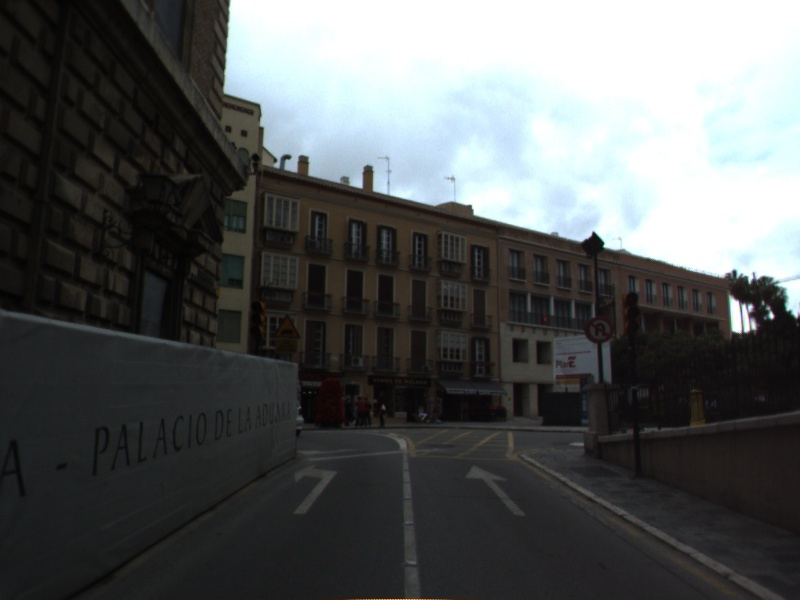LEFT: (291, 463, 341, 516)
STRAIGHT: (463, 462, 529, 518)
